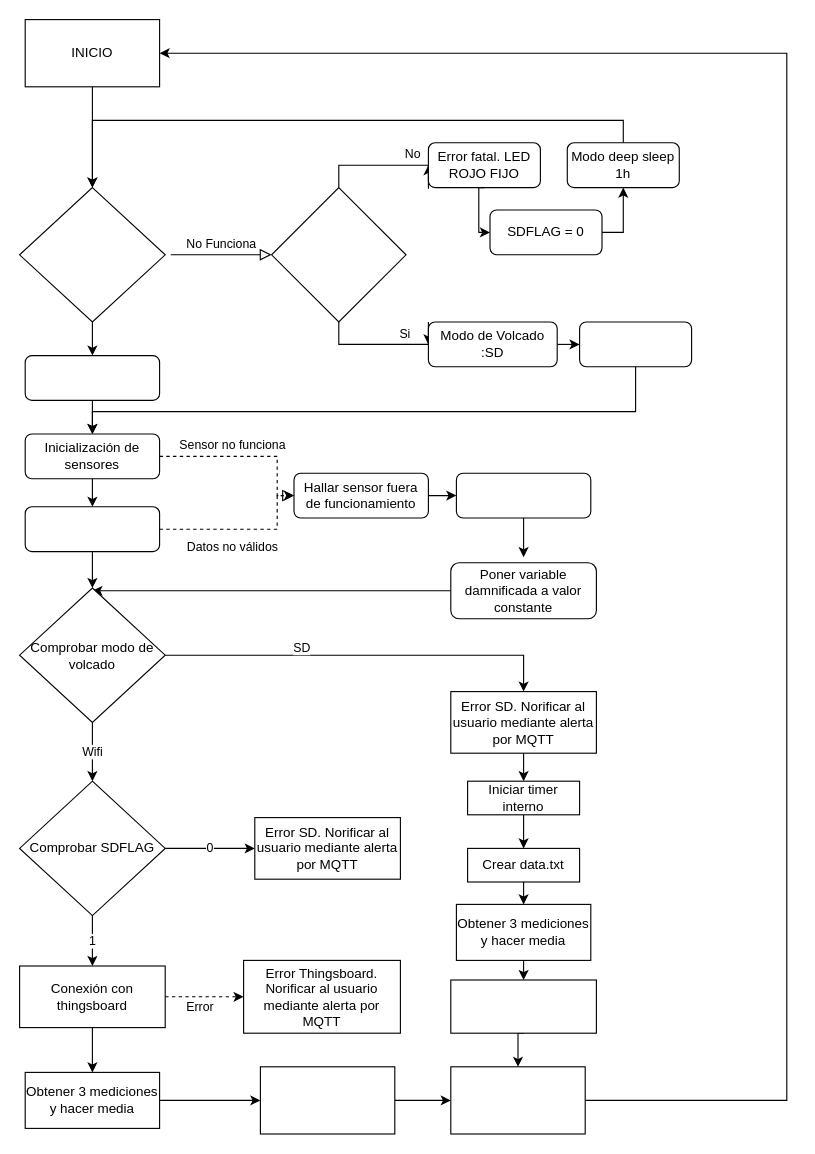
This 815x1154 diagram has some shape labels left out. Each missing label, with the centre of its shape:
"Alerta al usuario" belongs at [523,495].
"Añadir datos obtenidos + timestamp + codigo error" belongs at [523,1006].
"Comprobación de que hay una tarjeta SD conectada" belongs at [338,254].
"Comprobación funcionamiento conexión WIFI" belongs at [91,254].
"Enviar datosen formato json, por MQTT a Thingsboard" belongs at [327,1100].
"Iniciar Sleep Mode" belongs at [517,1100].
"Modo Volcado: WIFI" belongs at [92,377].
"SDFLAG = 1" belongs at [635,344].
"Validación de datos obtenidos (a RAM)" belongs at [92,529].
